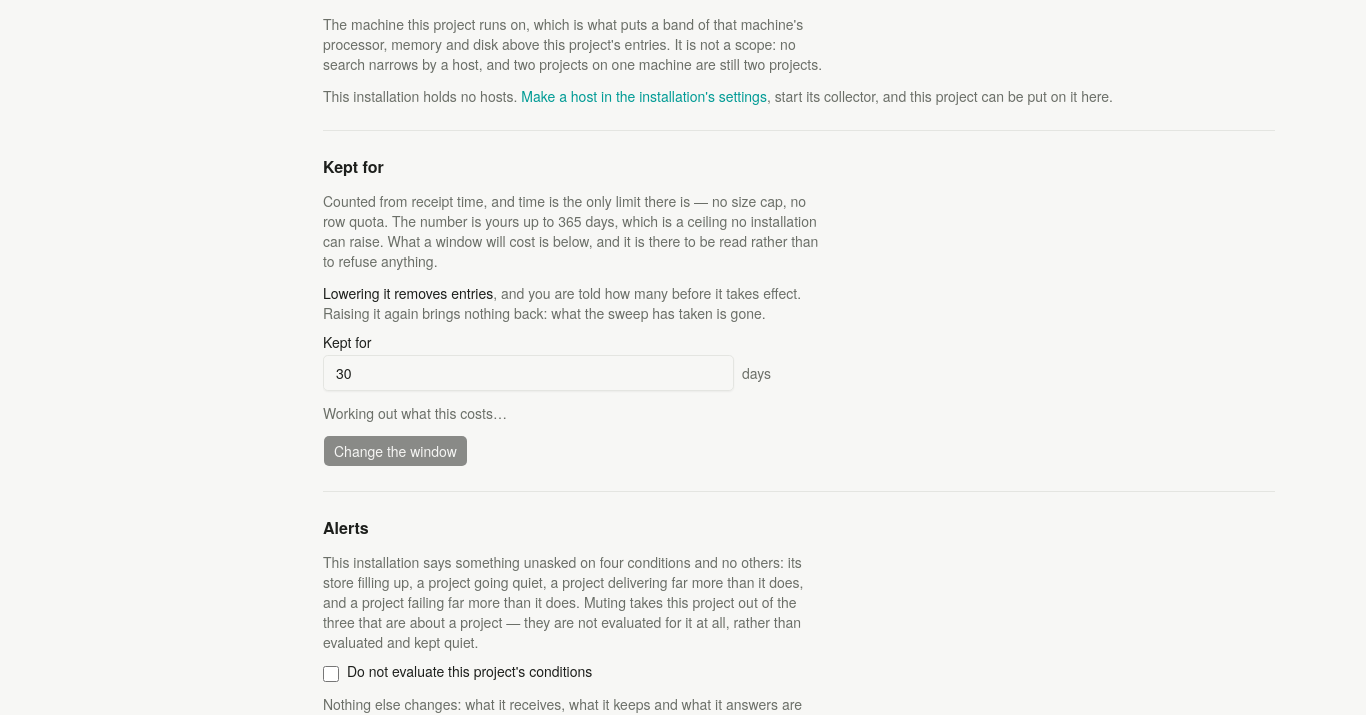
the retention window › counts nothing when the window is raised, because nothing leaves
(page scrolled)
Replace the text in the number field labelled "Kept for days" with "60" at (528, 373), box [323,355,734,391]
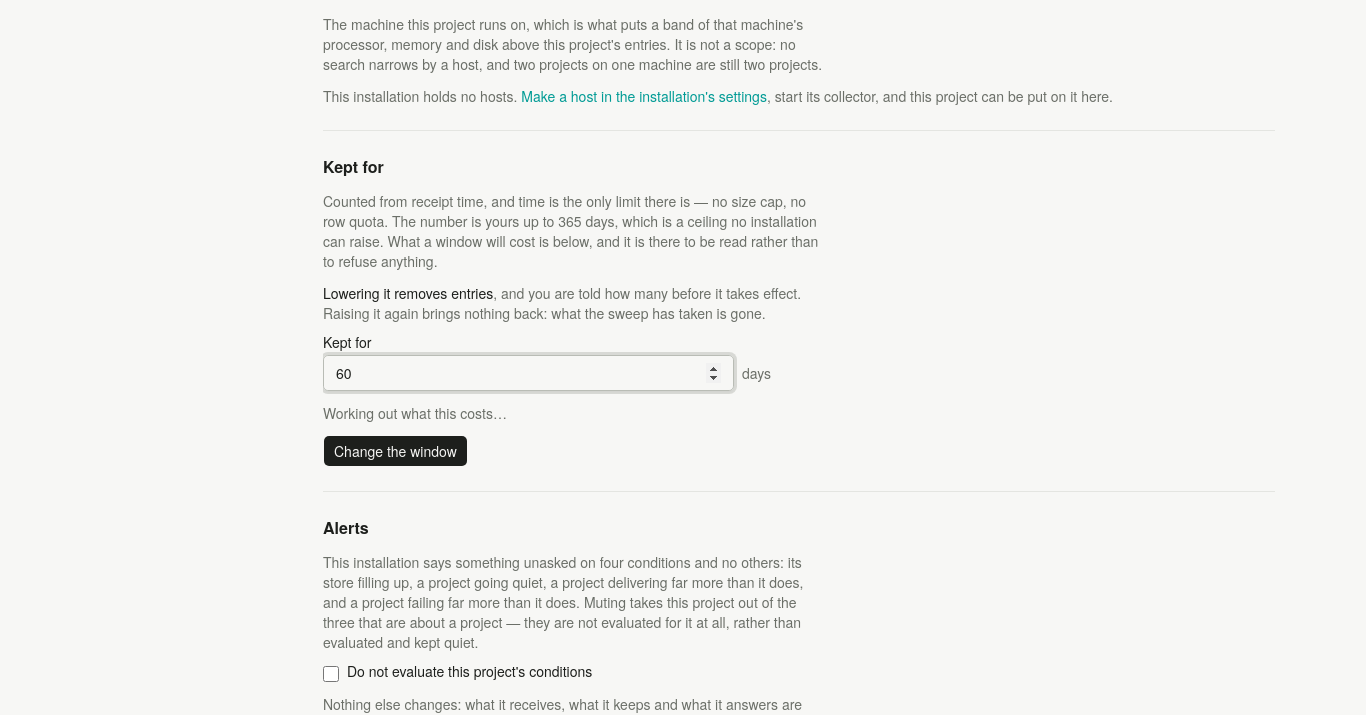
Click the button "Change the window" at (395, 451), box [323,435,468,467]
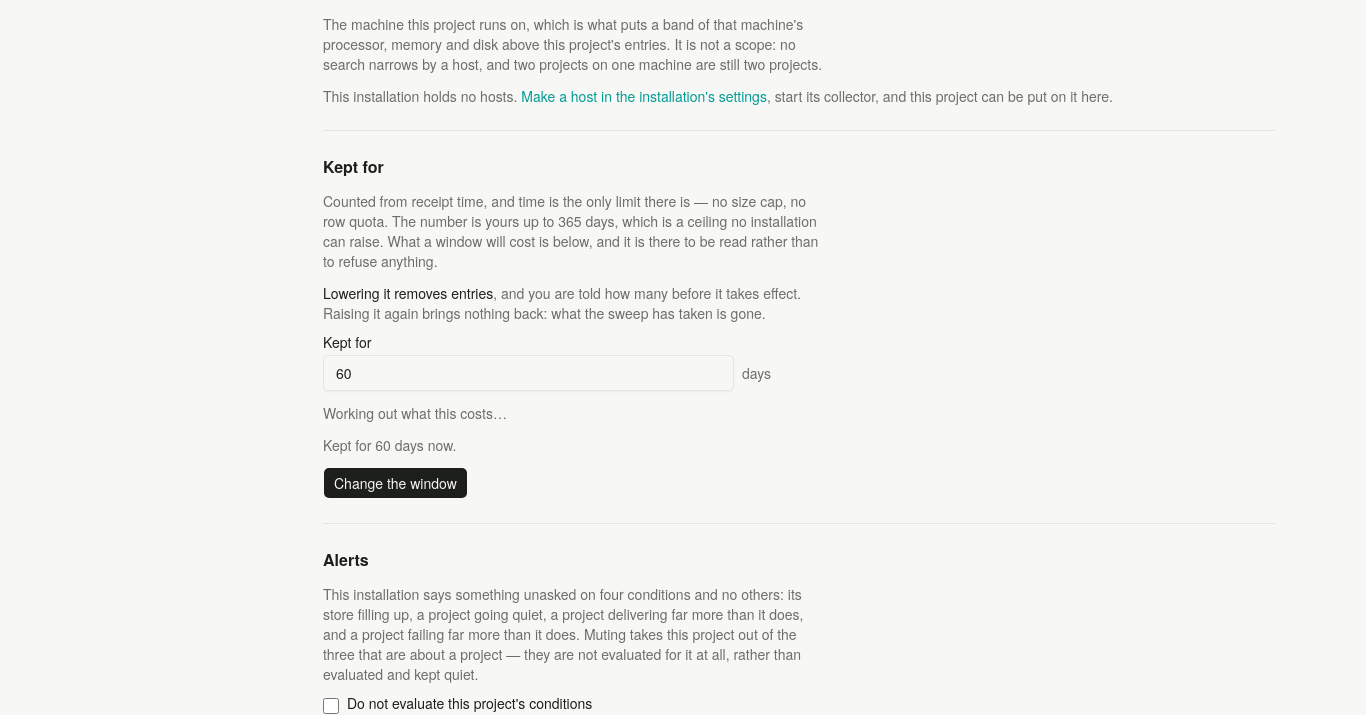
Check: the text "Kept for 60 days now." is shown, box [323,435,456,455]
